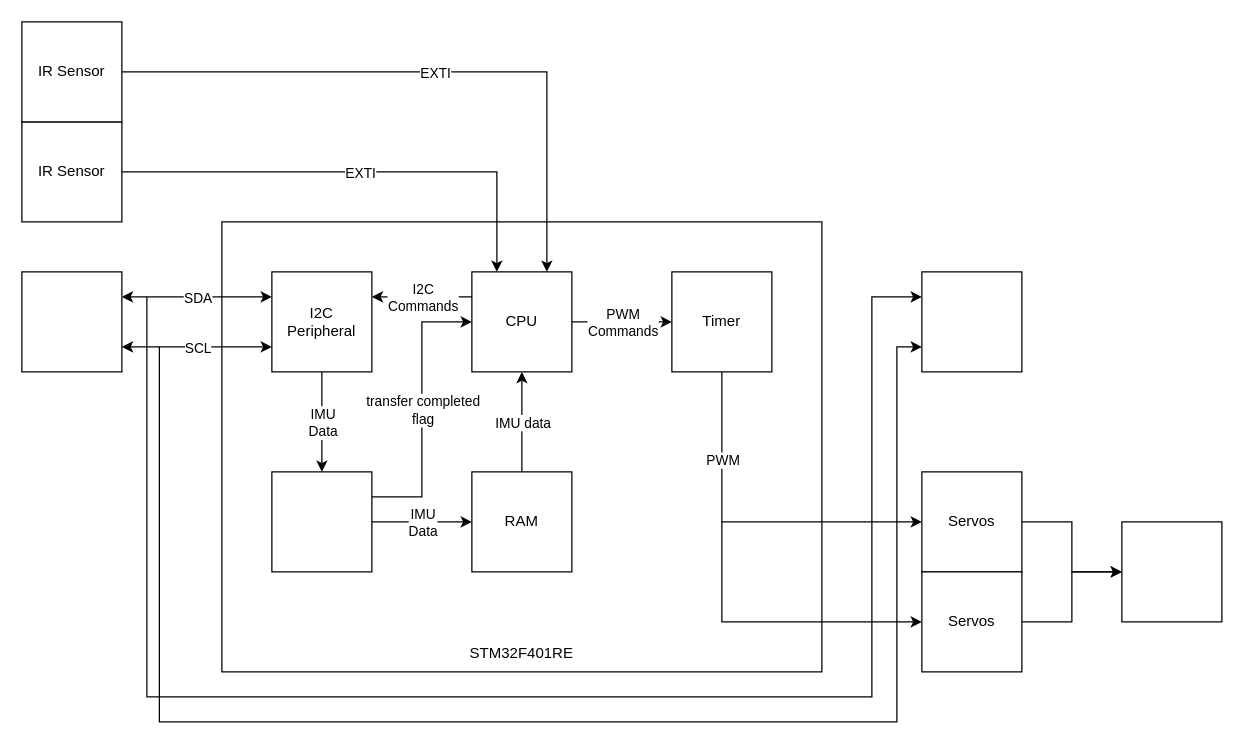
Some shapes in this 1244 by 754 pixel diagram are drawn without their labels. Here are the shapes that lost their labels. From the top down, the box of each, then its label:
(21, 271, 122, 372): MPU6050
(921, 271, 1022, 372): LCD1602A
(271, 471, 372, 572): DMA Peripheral
(1121, 521, 1222, 622): Enviroment
